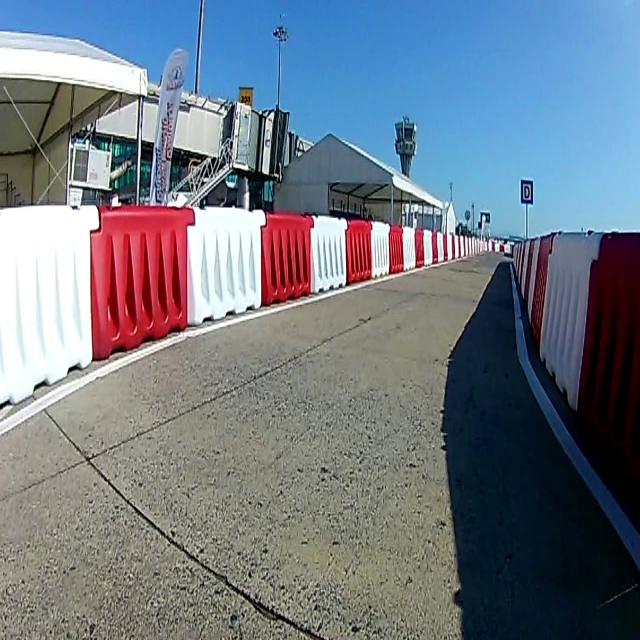durak: (520, 176, 534, 206)
